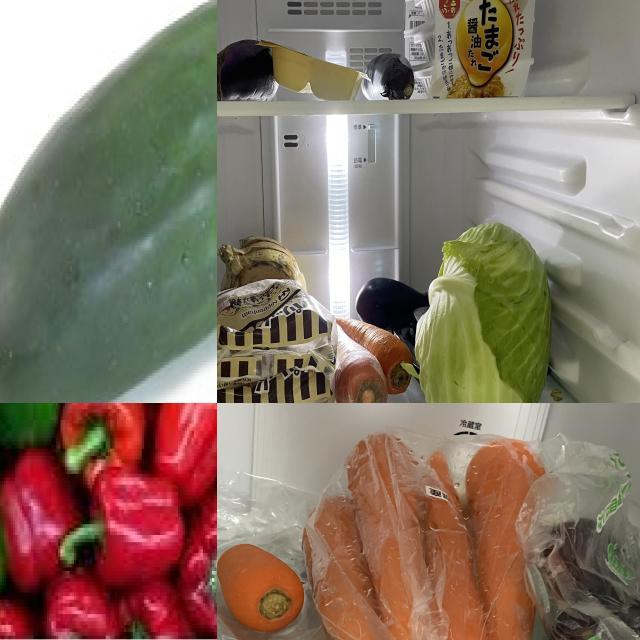cabbage: (416, 224, 561, 404)
carrot: (463, 438, 551, 640), (346, 432, 429, 640), (423, 446, 492, 640), (303, 495, 389, 640), (219, 543, 306, 638), (337, 318, 417, 392), (332, 321, 388, 404)
cucumber: (1, 1, 218, 404)
eggplant: (539, 513, 621, 640), (218, 38, 279, 104), (360, 280, 432, 334), (364, 56, 416, 102)
onion: (218, 234, 308, 301)
